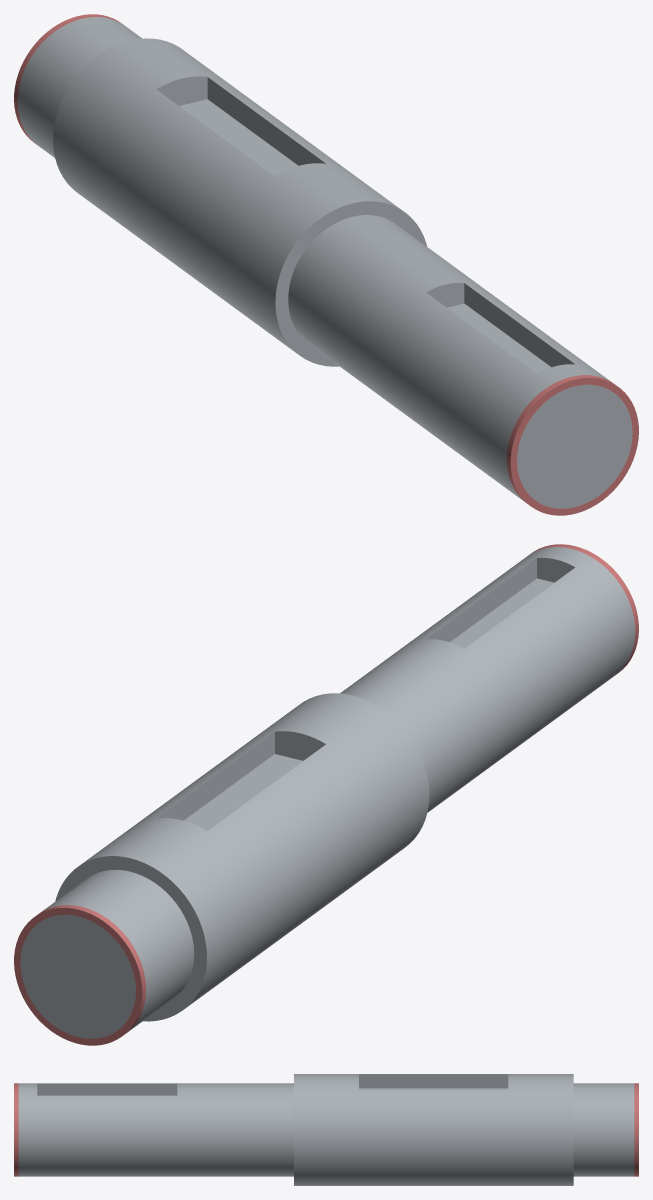
The model's file is step_19.glb.
The picture shows the model from 3 angles, top to bottom: view 1: azimuth 30°, elevation 25°; view 2: azimuth 150°, elevation 25°; view 3: azimuth 270°, elevation 25°; orthographic projection. The views are drawn at different scales.
Parts seen in each view (by area): view 1: part__output shaft, removed__output shaft; view 2: part__output shaft, removed__output shaft; view 3: part__output shaft, removed__output shaft.
Boxes of the visible parts, left/top/right/bottom form: part__output shaft: left=17, top=17, right=632, bottom=508; removed__output shaft: left=14, top=14, right=638, bottom=515; part__output shaft: left=20, top=547, right=635, bottom=1038; removed__output shaft: left=14, top=544, right=638, bottom=1045; part__output shaft: left=18, top=1074, right=634, bottom=1185; removed__output shaft: left=14, top=1083, right=638, bottom=1176.
Bounding box in the file's own units: 23.99 × 23.99 × 134.
